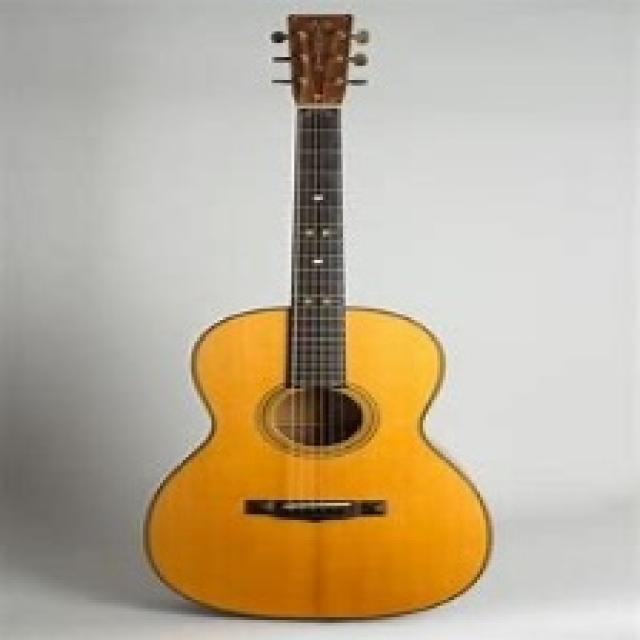guitar: (140, 13, 493, 624)
